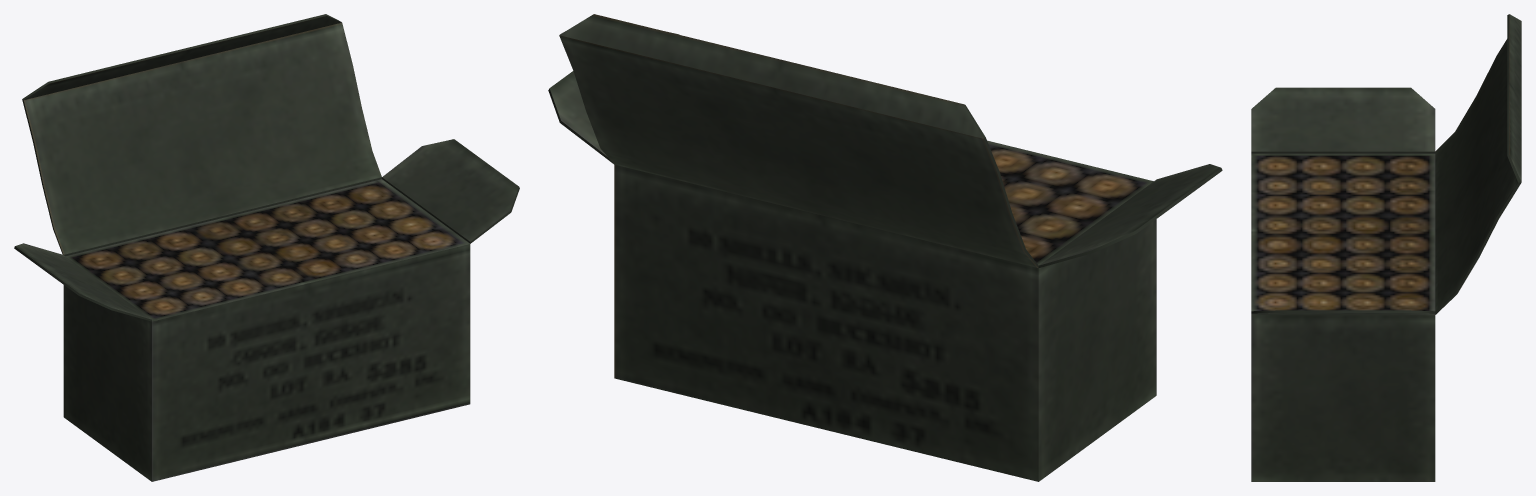
The model's file is ammo_box_mp_2.obj.
3 renders of one model, left to right at view 1: azimuth 30°, elevation 25°; view 2: azimuth 150°, elevation 25°; view 3: azimuth 270°, elevation 25°, orthographic. The views are drawn at different scales.
Parts seen in each view (by area): view 1: ammo_box_mp_2; view 2: ammo_box_mp_2; view 3: ammo_box_mp_2.
Boxes of the visible parts, <box> form: ammo_box_mp_2: <box>14,14,519,481</box>; ammo_box_mp_2: <box>548,14,1222,481</box>; ammo_box_mp_2: <box>1251,14,1521,481</box>.
Size of the model in its own units: 0.2159 by 0.1424 by 0.1101.
